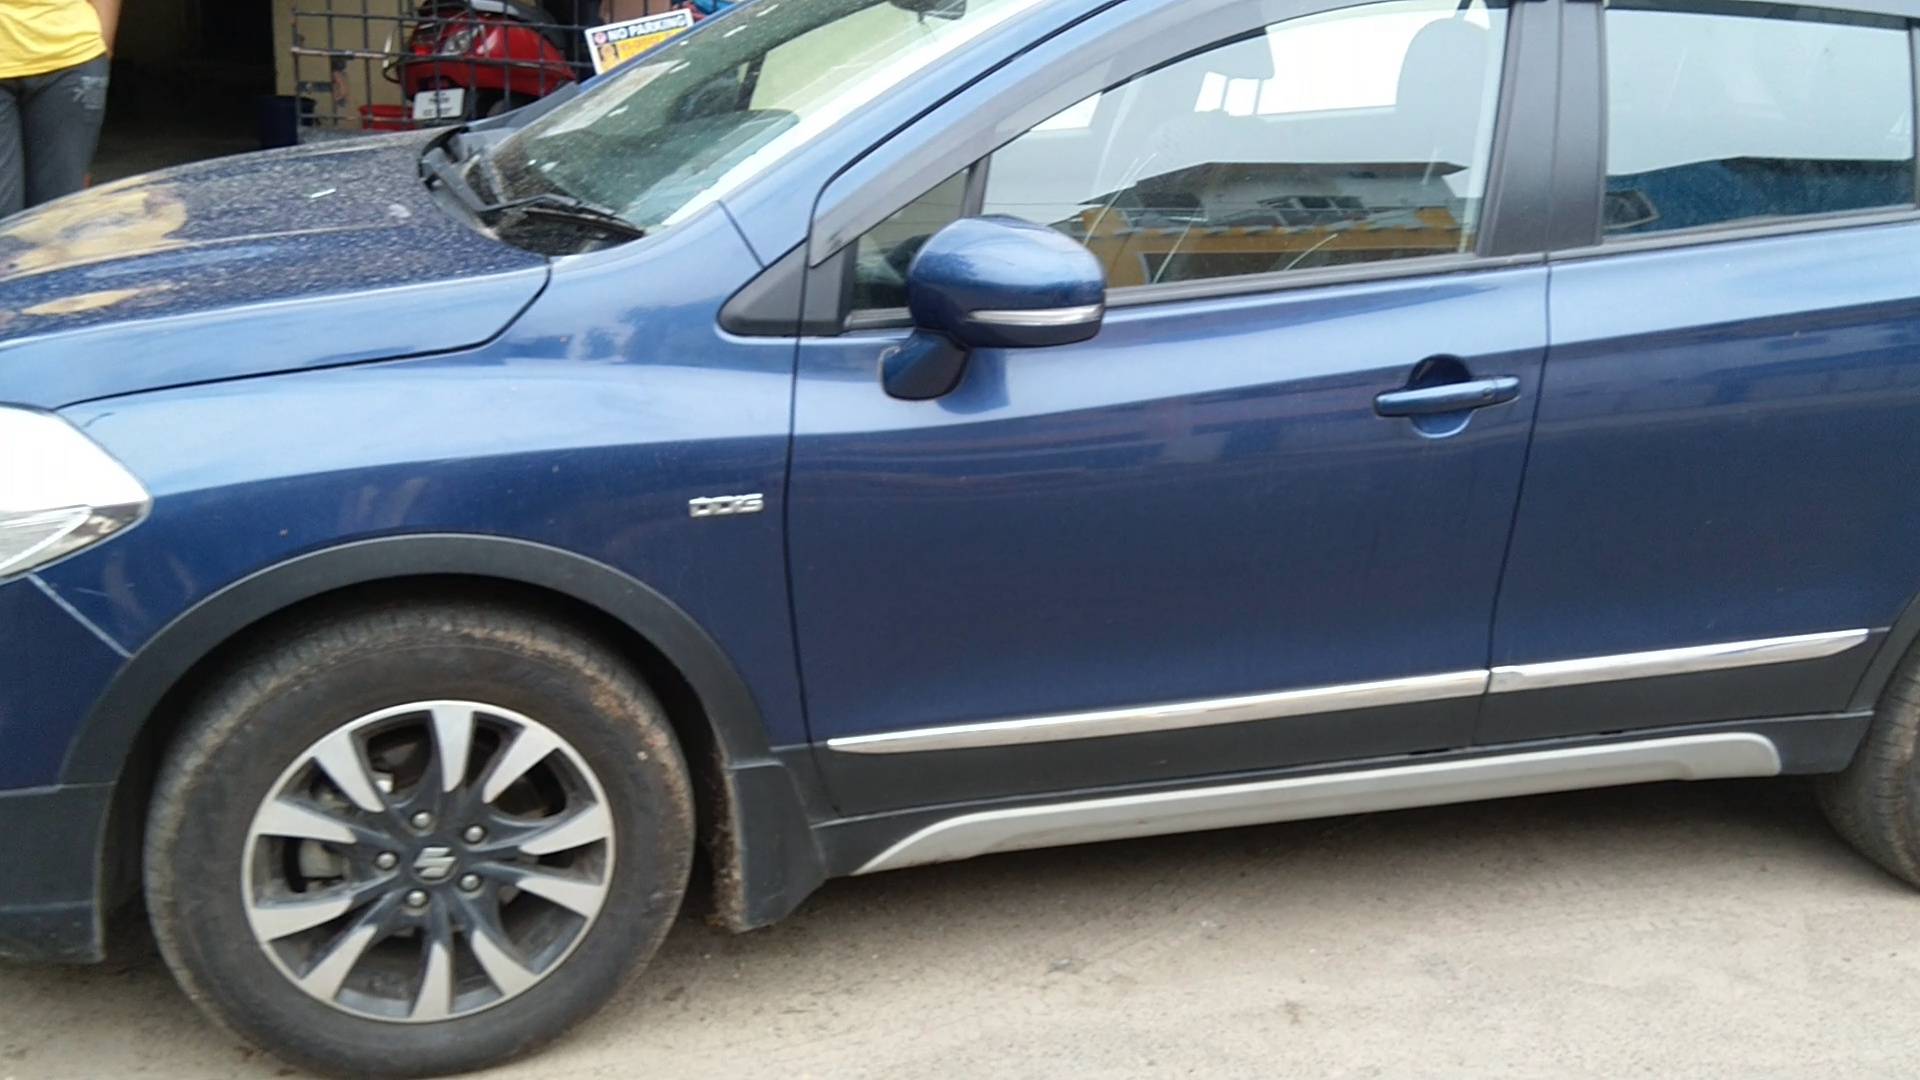alloy_wheel: (129, 611, 703, 1080)
ovr_mirror: (870, 202, 1108, 402)
